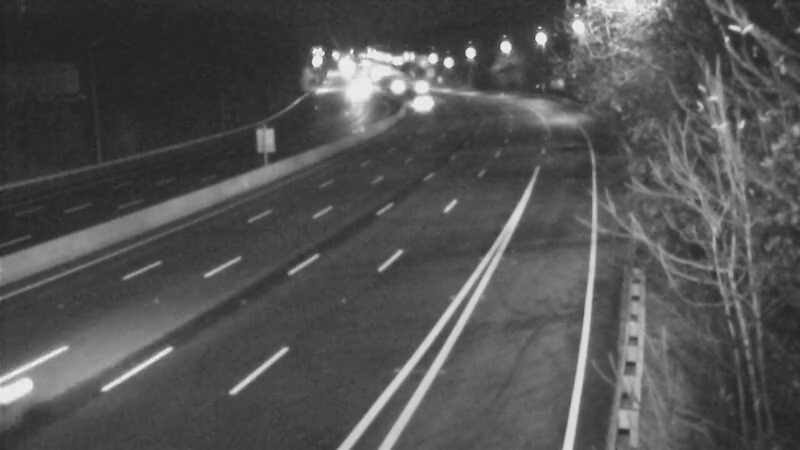vehicle: (398, 59, 448, 109), (369, 58, 419, 108), (401, 75, 451, 125), (333, 66, 383, 116)
